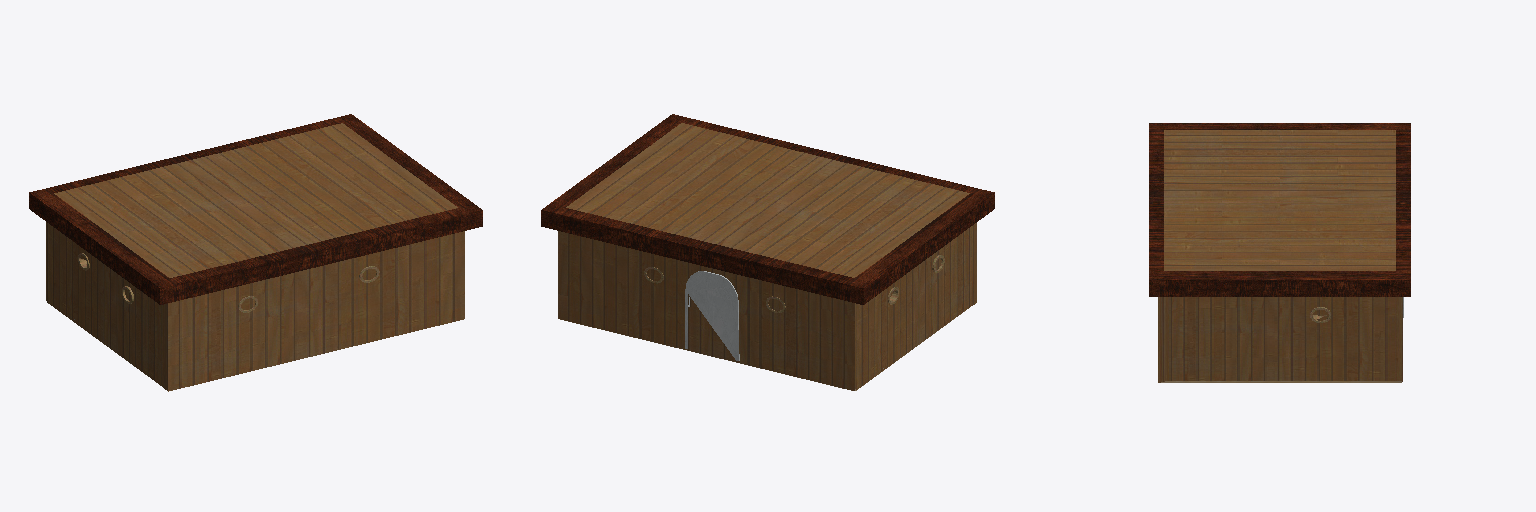
3 views of the same model, side by side, from view 1: azimuth 30°, elevation 25°; view 2: azimuth 150°, elevation 25°; view 3: azimuth 270°, elevation 25° (orthographic).
Parts seen in each view (by area): view 1: polySurface266, polySurface317, rack_vino_pCube19polySurface274; view 2: polySurface266, rack_vino_pCube19polySurface314, rack_vino_pCube19polySurface274, rack_vino_pCube19polySurface268; view 3: polySurface266, rack_vino_pCube19polySurface306, polySurface317.
Boxes of the visible parts, x1,y1,x2,y2 form: polySurface266: [29, 114, 482, 304]; polySurface317: [163, 231, 464, 391]; rack_vino_pCube19polySurface274: [47, 223, 162, 386]; polySurface266: [541, 114, 994, 304]; rack_vino_pCube19polySurface314: [558, 231, 855, 390]; rack_vino_pCube19polySurface274: [856, 226, 971, 389]; rack_vino_pCube19polySurface268: [685, 271, 739, 360]; polySurface266: [1149, 123, 1410, 296]; rack_vino_pCube19polySurface306: [1169, 297, 1397, 380]; polySurface317: [1158, 297, 1168, 382].
Size of the model in its own units: 8.48 by 2.79 by 5.98.
Materials: 18 (11 with a texture image).